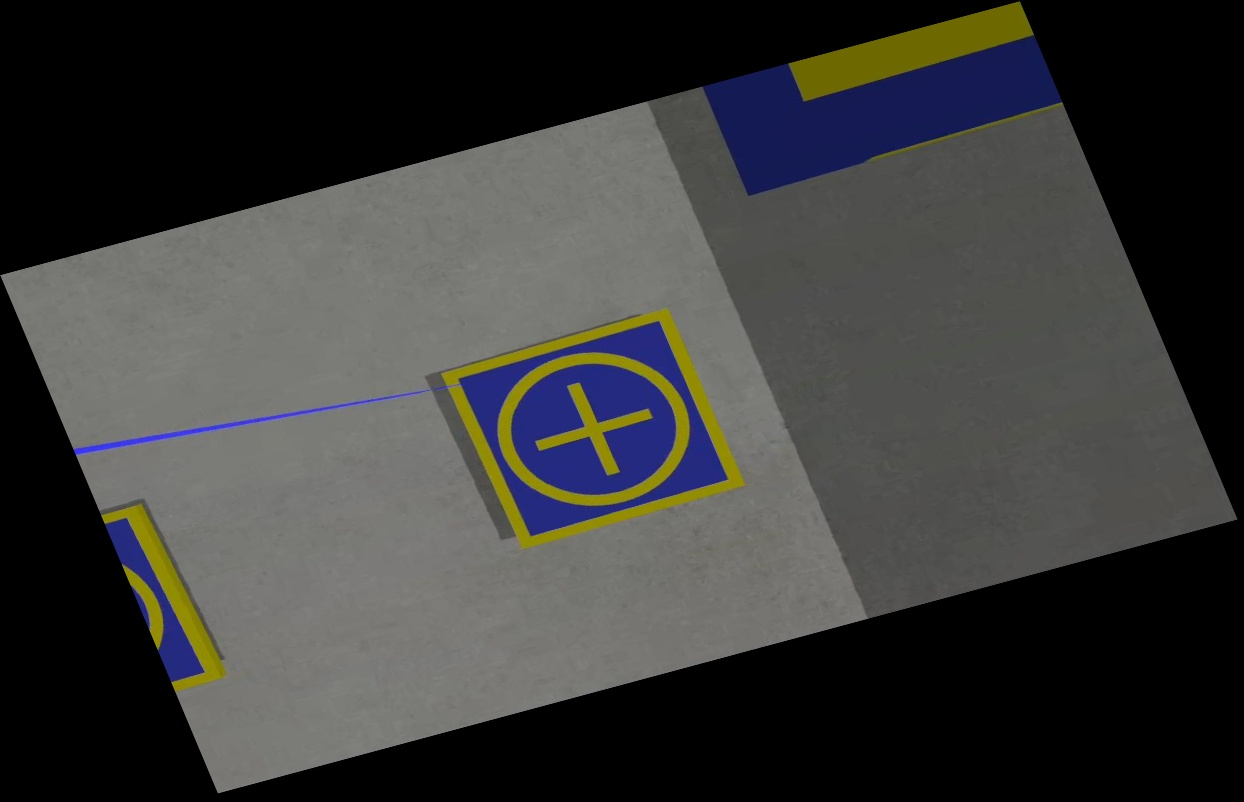large_base: (699, 0, 1065, 192)
small_base: (433, 302, 753, 555), (99, 496, 231, 697)
